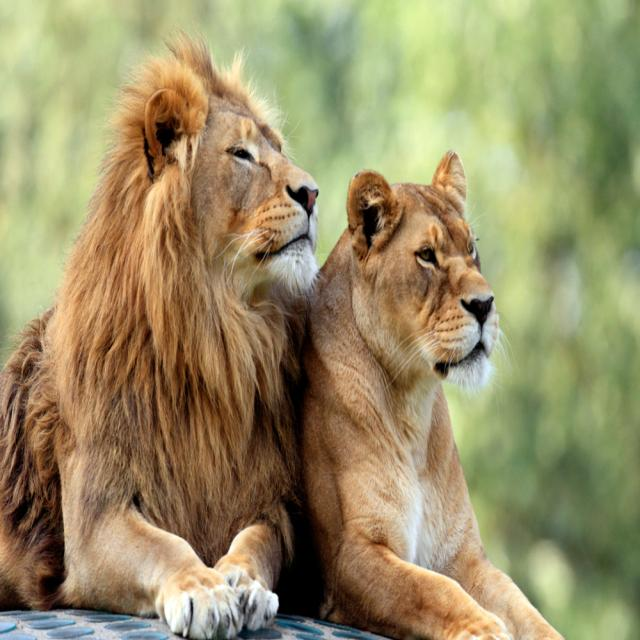Lion: (0, 30, 321, 635), (304, 142, 567, 639)
